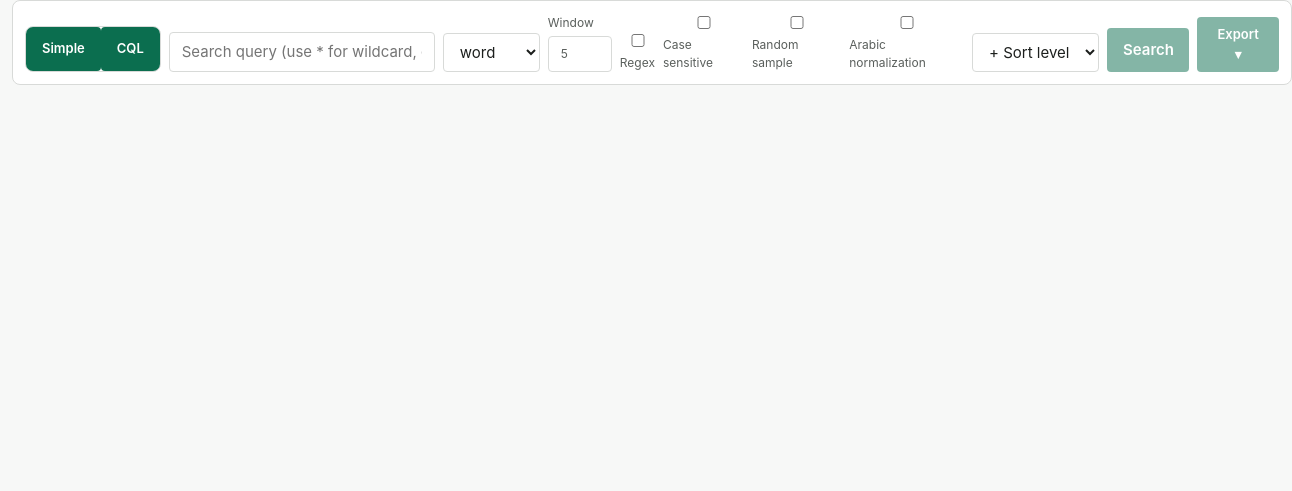
it: Cancel + elapsed counter (CQL) › Run CQL disables while in flight, shows the elapsed counter and Cancel; cancel aborts
Click the button with class "mode-toggle-btn" showing "CQL" at (130, 49), box [101,27,160,71]
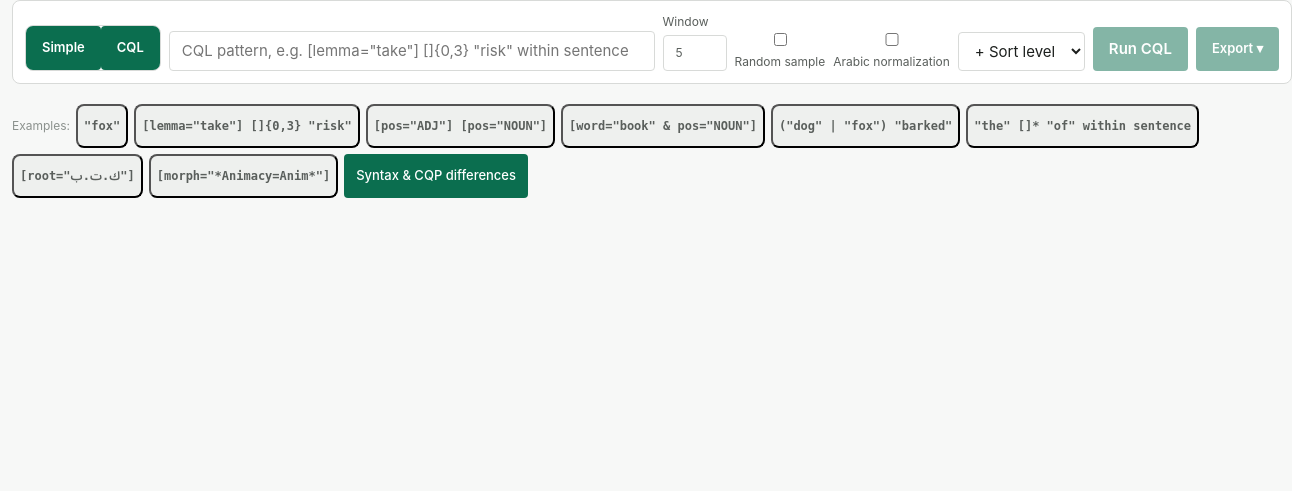
Replace the text in the field with class "search-input" with "\"the\" []* \"of\"" at (412, 51), box [169,30,655,71]
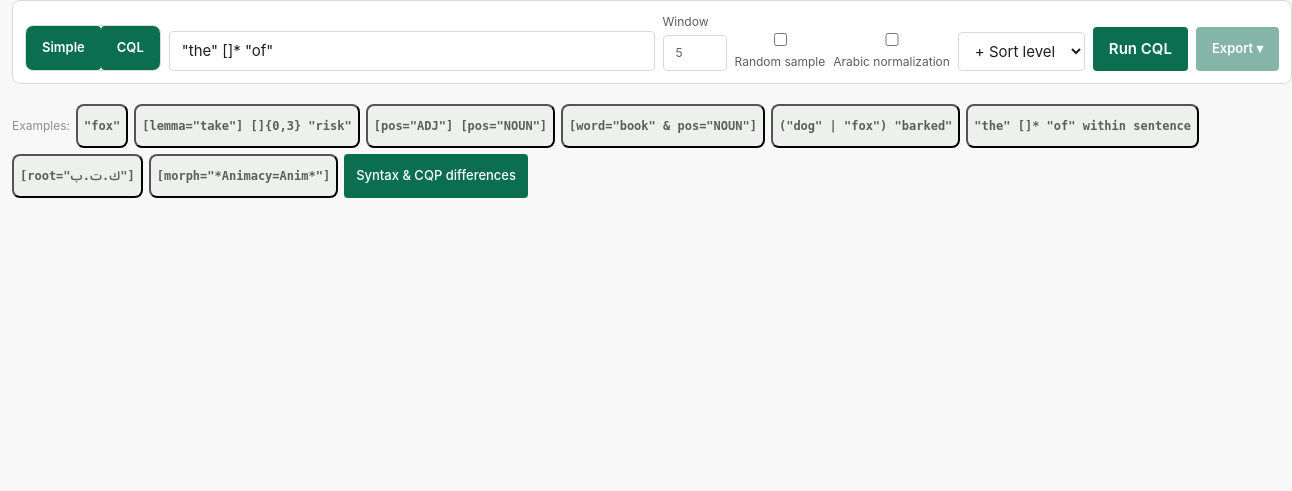
Click the button "Run CQL" at (1140, 49), box [1093,27,1188,71]
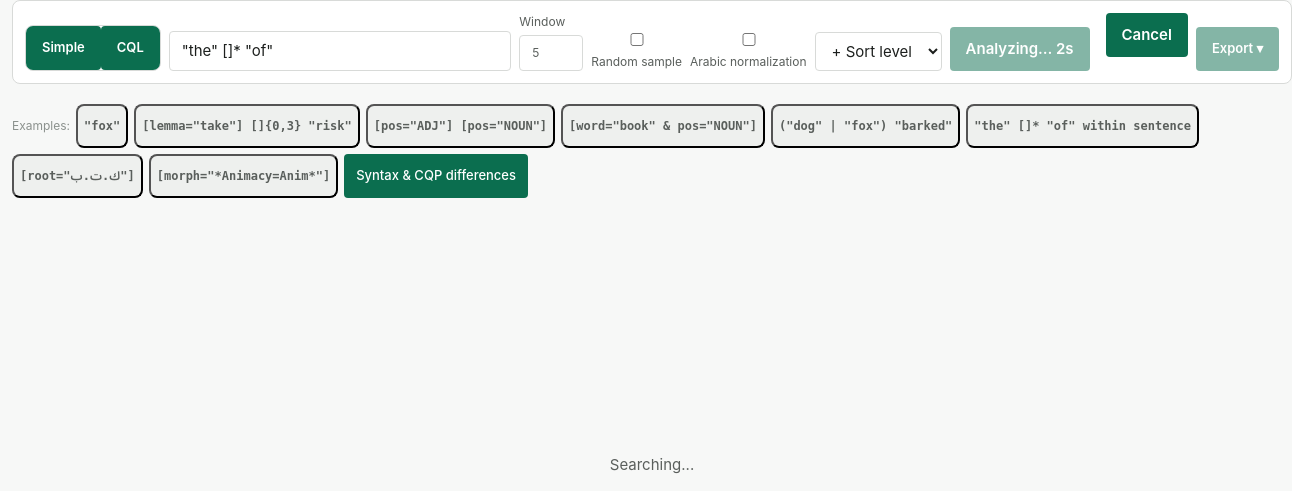
Check: the button "Analyzing… 2s" is disabled, box [950,27,1090,71]
Check: the button "Analyzing… 2s" is shown, box [950,27,1090,71]
Check: the button "Cancel" is shown
Click the button "Cancel" at (1147, 35), box [1106,13,1188,57]
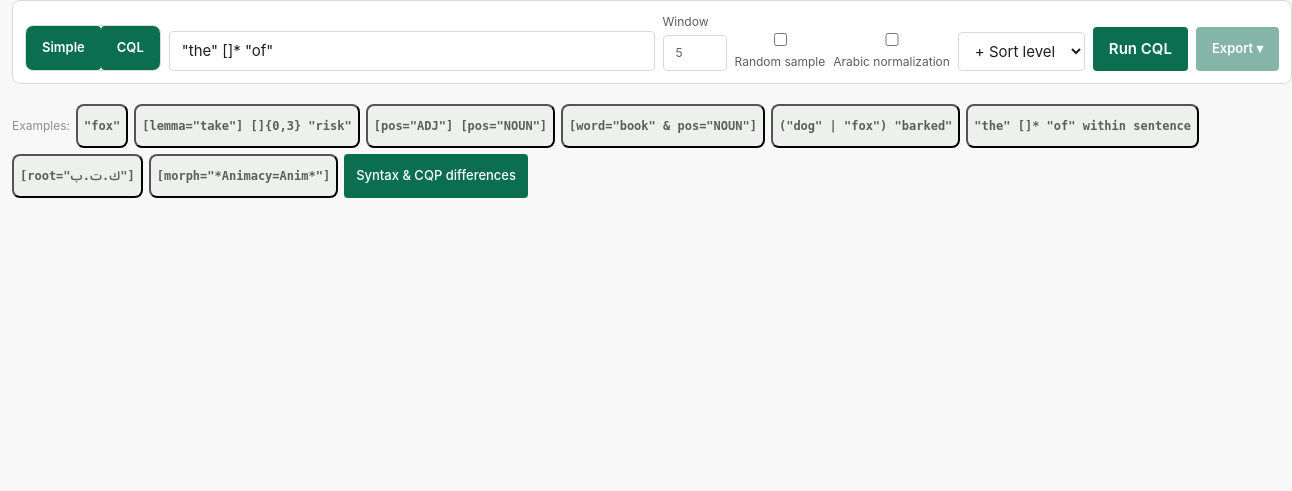
Check: the button "Run CQL" is enabled, box [1093,27,1188,71]
